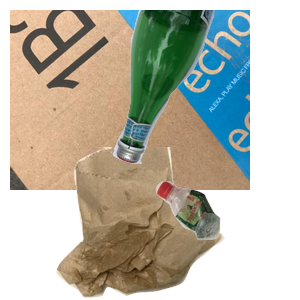cardboard: (10, 10, 250, 190)
glass: (109, 10, 300, 167)
plastic: (153, 178, 300, 300)
trash: (54, 147, 271, 300)
